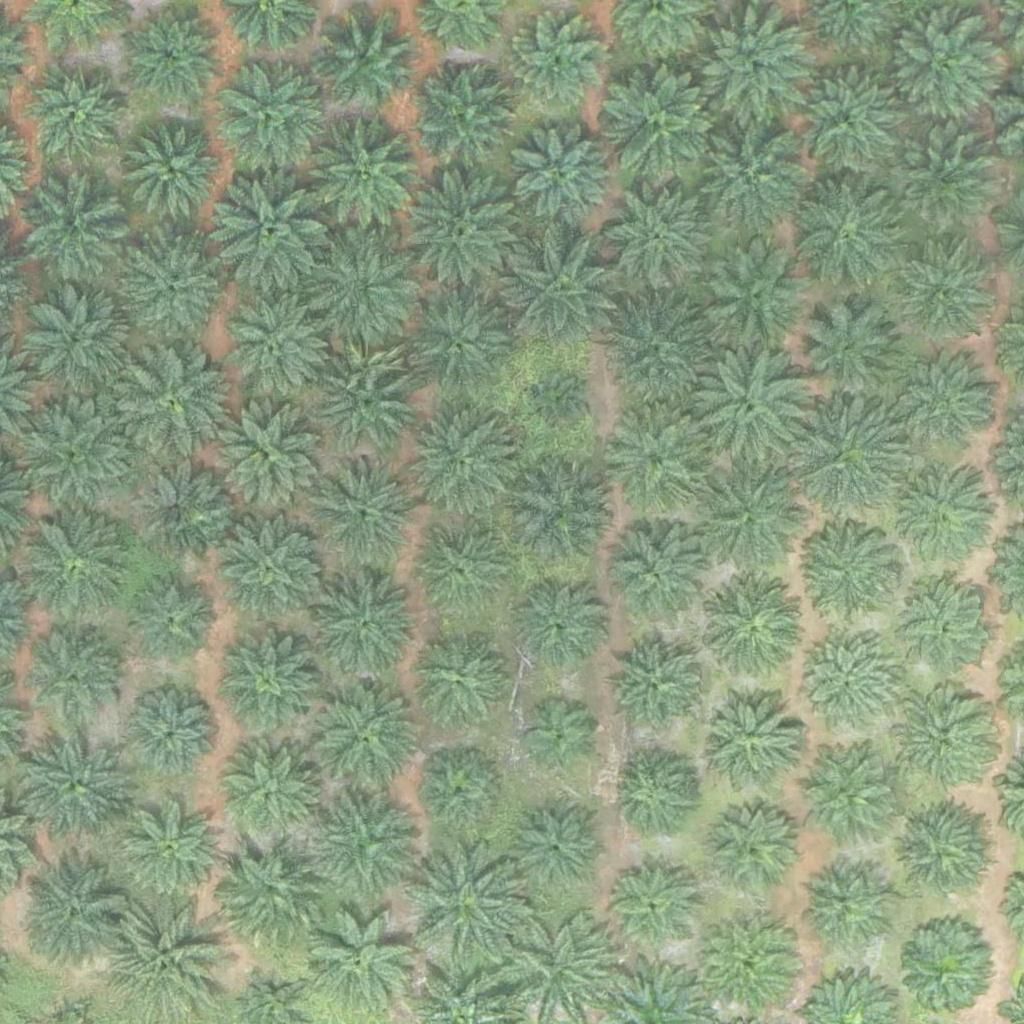Kelapa_Sawit: (205, 171, 330, 297), (298, 228, 423, 354), (394, 170, 519, 296), (499, 229, 624, 355), (600, 60, 725, 186), (596, 289, 721, 415), (683, 109, 808, 235), (693, 340, 818, 466), (788, 171, 913, 297), (783, 396, 908, 522), (689, 454, 814, 580), (108, 341, 233, 466), (784, 63, 909, 188), (402, 842, 527, 967), (303, 782, 428, 907), (15, 390, 140, 515), (15, 503, 140, 628), (308, 119, 421, 233), (408, 60, 521, 174), (507, 455, 620, 569), (400, 287, 513, 400), (405, 404, 518, 517), (697, 9, 810, 122), (698, 241, 811, 354), (793, 297, 906, 410), (892, 351, 1005, 464), (880, 459, 993, 572), (313, 569, 426, 682), (310, 682, 423, 795), (304, 905, 417, 1018), (605, 404, 717, 518), (214, 54, 326, 167), (217, 290, 329, 403), (307, 339, 419, 452), (508, 121, 620, 234), (599, 178, 711, 291), (886, 12, 998, 125), (887, 124, 999, 237), (404, 518, 516, 631), (309, 452, 421, 565), (112, 908, 224, 1021), (20, 734, 132, 847), (24, 67, 124, 168), (25, 181, 125, 282), (29, 285, 129, 386), (121, 4, 221, 105), (123, 120, 223, 221), (120, 236, 220, 337), (217, 408, 317, 509), (504, 14, 604, 115), (895, 579, 995, 680), (893, 690, 993, 791), (796, 523, 896, 624), (697, 920, 797, 1021), (505, 801, 605, 902), (410, 632, 510, 733), (221, 522, 321, 623), (215, 633, 315, 734), (218, 746, 318, 847), (221, 846, 321, 947), (129, 459, 229, 560), (120, 798, 220, 899), (26, 627, 126, 728), (316, 7, 416, 107), (888, 806, 988, 906), (893, 915, 993, 1015), (798, 632, 898, 732), (797, 743, 897, 843), (795, 857, 895, 957), (701, 581, 801, 681), (701, 691, 801, 791), (703, 803, 803, 903), (601, 525, 701, 625), (608, 638, 708, 738), (509, 580, 609, 680), (29, 868, 129, 968), (126, 579, 214, 668), (899, 247, 987, 335), (412, 748, 500, 836), (123, 691, 211, 779), (605, 750, 692, 838), (605, 861, 692, 949), (520, 695, 595, 771), (529, 375, 592, 438)
